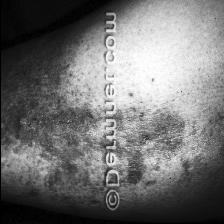Unclassified: (0, 56, 97, 190), (117, 78, 189, 190)
